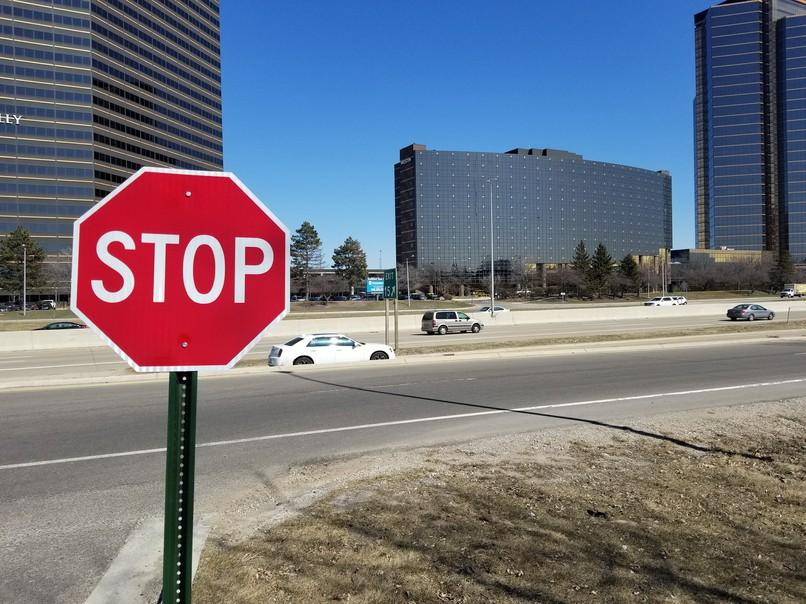Pole: (161, 374, 199, 599)
Sign: (69, 169, 291, 367)
